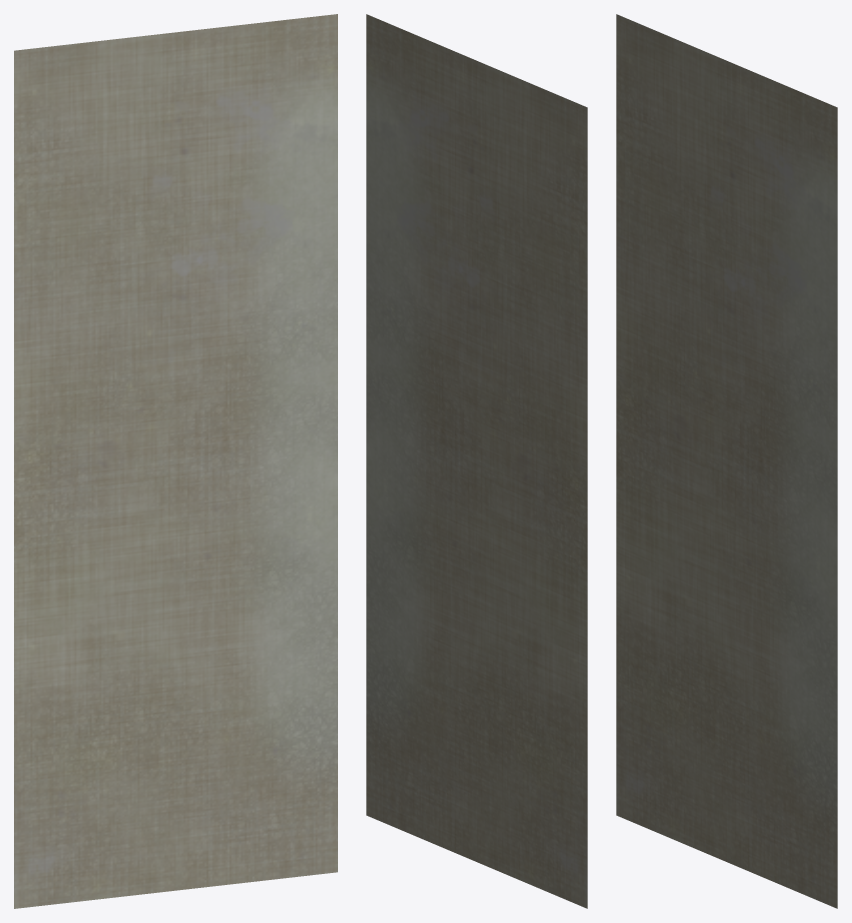
File: TraditionalKoreanHouse_PaperAL.fbx
The picture shows the model from 3 angles, left to right: view 1: azimuth 30°, elevation 25°; view 2: azimuth 150°, elevation 25°; view 3: azimuth 330°, elevation 25°; orthographic projection. The views are drawn at different scales.
Parts seen in each view (by area): view 1: TraditionalKoreanHouse_PaperAL; view 2: TraditionalKoreanHouse_PaperAL; view 3: TraditionalKoreanHouse_PaperAL.
Part boxes in pixels (box(x1,y1,x2,y2)): TraditionalKoreanHouse_PaperAL: box(14, 14, 337, 908); TraditionalKoreanHouse_PaperAL: box(366, 14, 587, 908); TraditionalKoreanHouse_PaperAL: box(616, 14, 837, 908).
Size of the model in its own units: 53.15 by 155 by 14.24.
